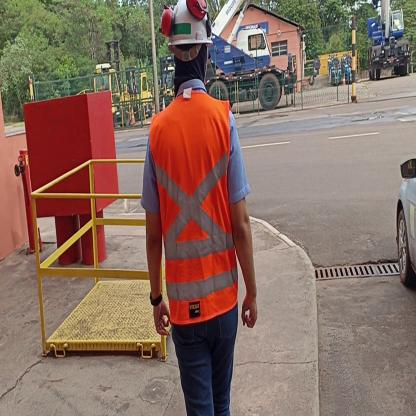Balaclava: (173, 43, 209, 88)
Capacete: (162, 2, 216, 47)
colete: (153, 106, 243, 321)
